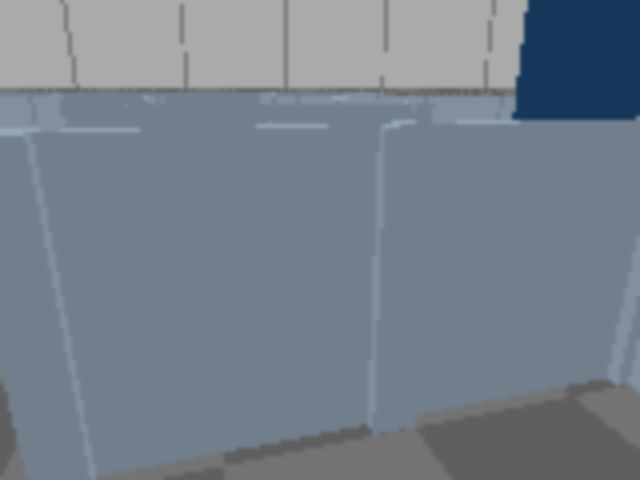person: (511, 0, 638, 314)
